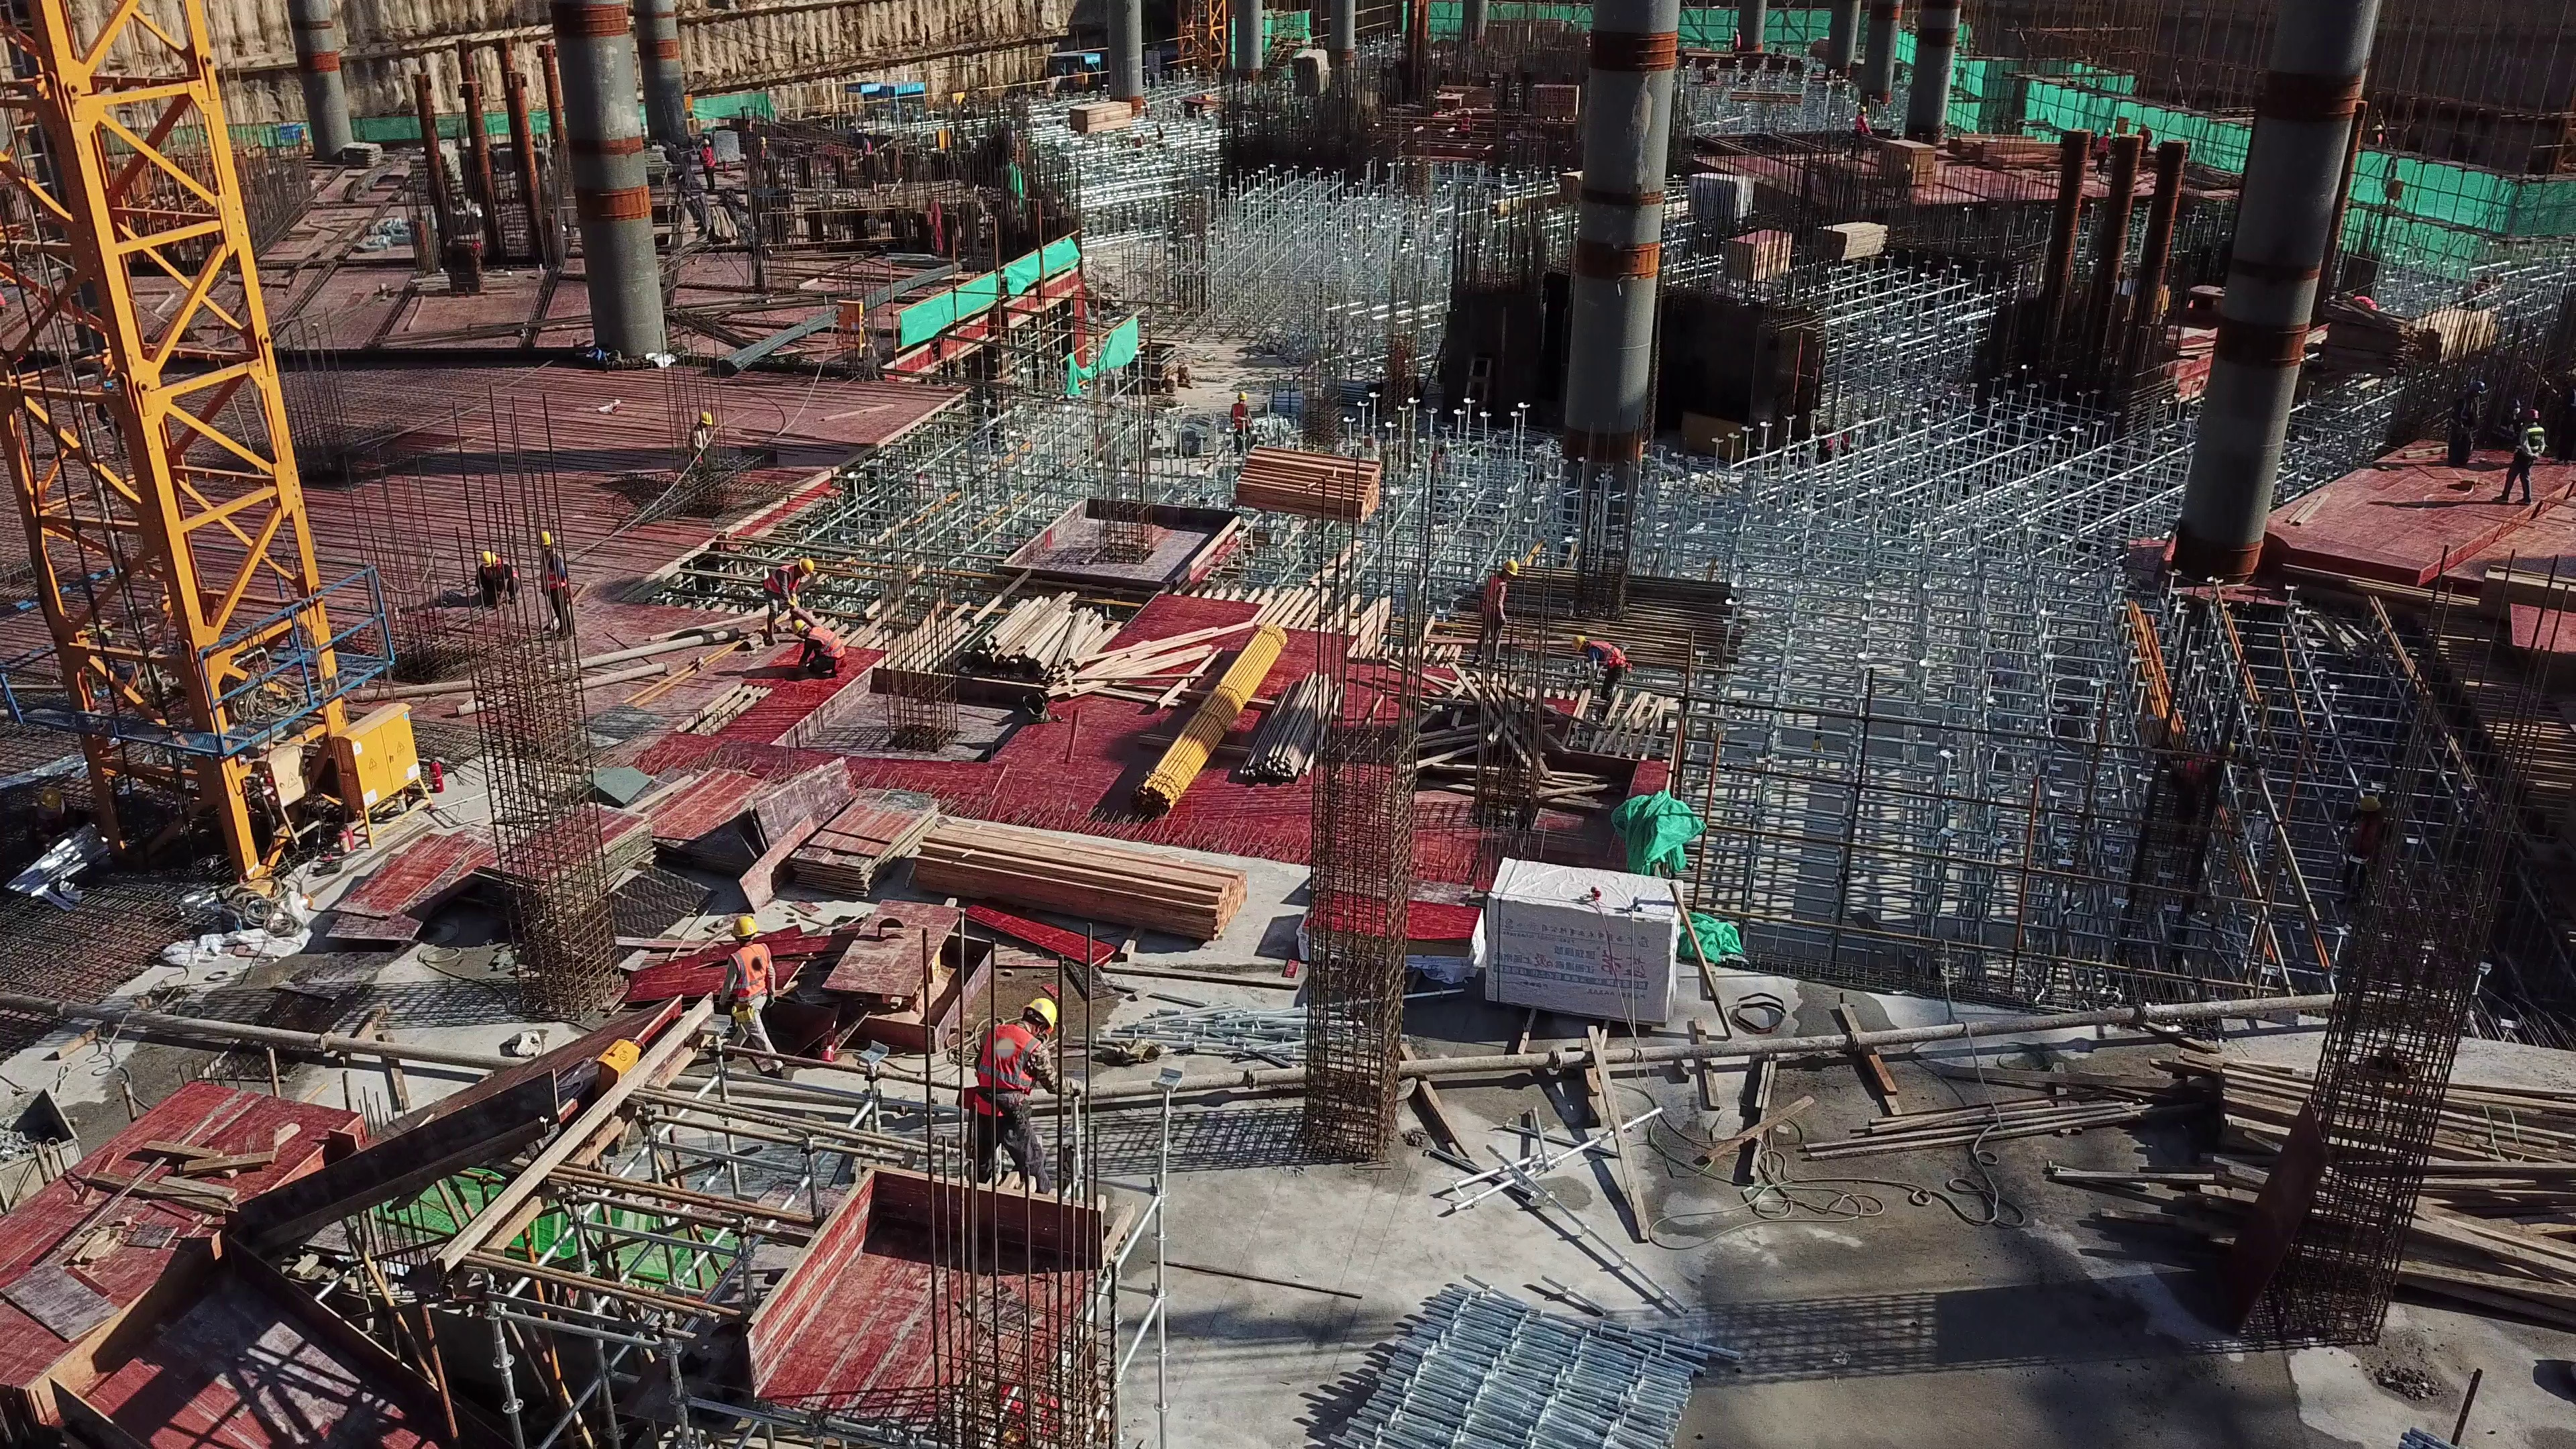board: (484, 804, 649, 918), (783, 789, 935, 896), (1720, 227, 1798, 281)
ebox: (333, 700, 422, 812), (835, 296, 863, 335)
helmet: (1022, 997, 1057, 1031), (731, 915, 755, 939), (2357, 794, 2383, 812), (480, 547, 495, 568), (798, 558, 814, 575), (1503, 560, 1517, 575), (1570, 636, 1585, 650), (792, 617, 806, 635), (540, 530, 553, 545), (699, 411, 711, 427)
person: (961, 991, 1079, 1201), (718, 917, 787, 1082), (2341, 793, 2404, 922), (1566, 633, 1630, 715), (2492, 409, 2546, 503), (760, 555, 820, 641), (532, 526, 576, 639), (1477, 559, 1516, 662), (787, 619, 847, 680), (2451, 378, 2487, 468), (472, 550, 522, 608), (688, 410, 718, 477), (1230, 385, 1256, 451), (697, 136, 721, 197), (2092, 124, 2113, 180), (1851, 103, 1874, 139), (1455, 108, 1474, 138)
scaffold: (1322, 1287, 1703, 1449)
vest: (973, 1024, 1040, 1119), (731, 942, 770, 1004), (1583, 641, 1631, 675), (761, 562, 798, 595), (812, 627, 845, 663), (539, 555, 568, 592), (1484, 578, 1504, 615), (2525, 423, 2543, 462), (1230, 402, 1247, 431)
wood: (2217, 1063, 2576, 1307), (920, 822, 1249, 939), (979, 593, 1116, 682), (1238, 671, 1341, 789)
